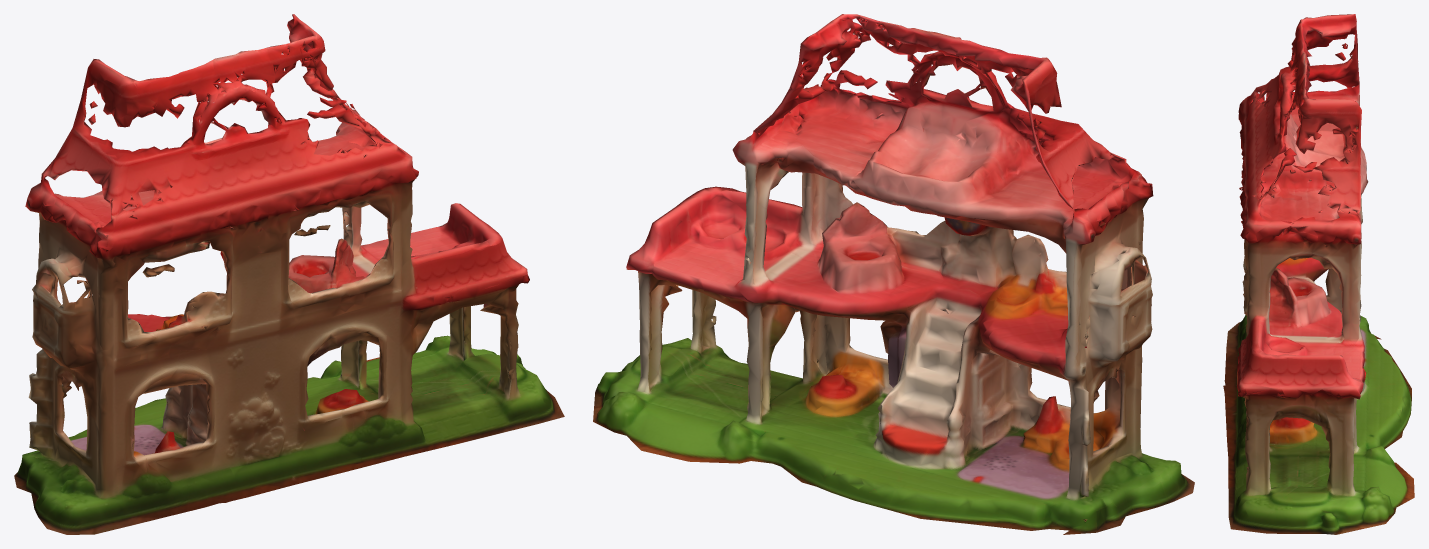
The model's file is pink_house_no_floor_103k_faces_decimated15p_centered.fbx.
3 renders of one model, left to right at view 1: azimuth 30°, elevation 25°; view 2: azimuth 150°, elevation 25°; view 3: azimuth 270°, elevation 25°, orthographic. The views are drawn at different scales.
Visible parts, largest first — view 1: Model; view 2: Model; view 3: Model.
Boxes of the visible parts, x1=… form: Model: x1=14, y1=14, x2=564, y2=534; Model: x1=593, y1=14, x2=1194, y2=534; Model: x1=1223, y1=14, x2=1414, y2=534.
Size of the model in its own units: 5.63 by 4.19 by 2.08.
